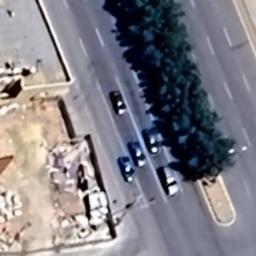sedan: (114, 151, 136, 187), (128, 138, 148, 170), (107, 88, 128, 116)
van: (156, 162, 186, 202)
